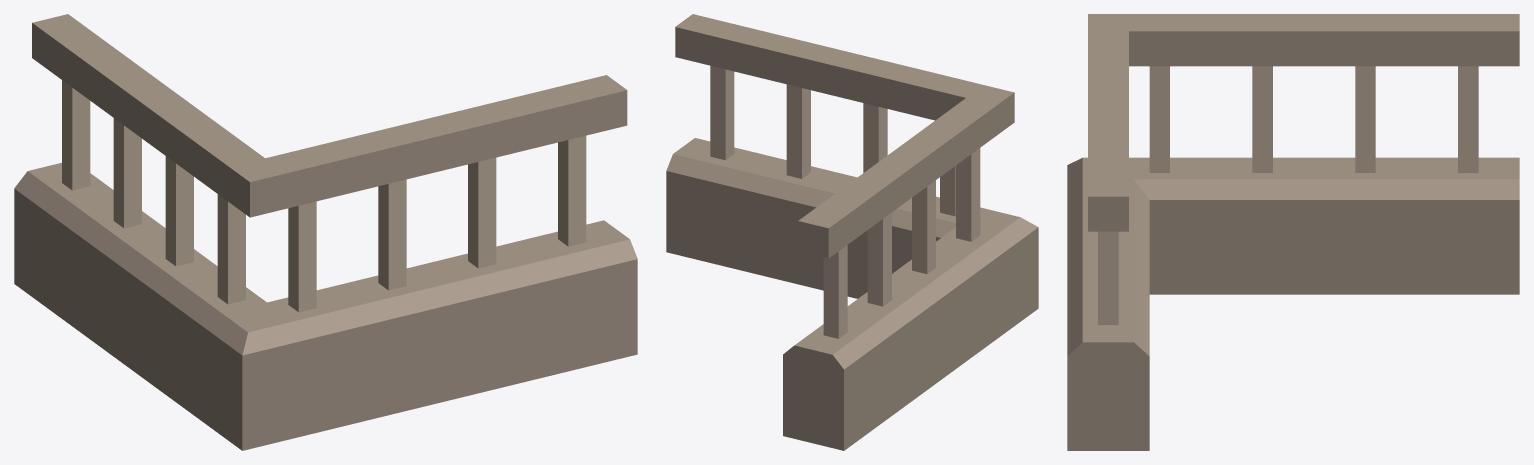
The model's file is Wood_Railing_Corner.glb.
The picture shows the model from 3 angles, left to right: view 1: azimuth 30°, elevation 25°; view 2: azimuth 150°, elevation 25°; view 3: azimuth 270°, elevation 25°; orthographic projection. The views are drawn at different scales.
Visible parts, largest first — view 1: Wood_Railing_Corner.1, Wood_Railing_Corner.2, Wood_Railing_Corner.8, Wood_Railing_Corner.6, Wood_Railing_Corner.3, Wood_Railing_Corner.7, Wood_Railing_Corner.5, Wood_Railing_Corner.4, Wood_Railing_Corner.9, Wood_Railing_Corner.0; view 2: Wood_Railing_Corner.1, Wood_Railing_Corner.2, Wood_Railing_Corner.6, Wood_Railing_Corner.8, Wood_Railing_Corner.0, Wood_Railing_Corner.9, Wood_Railing_Corner.5, Wood_Railing_Corner.4, Wood_Railing_Corner.7, Wood_Railing_Corner.3; view 3: Wood_Railing_Corner.1, Wood_Railing_Corner.2, Wood_Railing_Corner.0, Wood_Railing_Corner.4, Wood_Railing_Corner.5, Wood_Railing_Corner.9, Wood_Railing_Corner.8.
Boxes of the visible parts, x1,y1,x2,y2 form: Wood_Railing_Corner.1: (14,162,637,450); Wood_Railing_Corner.2: (32,14,627,217); Wood_Railing_Corner.8: (558,135,586,246); Wood_Railing_Corner.6: (468,157,496,268); Wood_Railing_Corner.3: (288,201,316,312); Wood_Railing_Corner.7: (378,179,406,290); Wood_Railing_Corner.5: (113,118,141,228); Wood_Railing_Corner.4: (165,156,193,266); Wood_Railing_Corner.9: (217,194,245,304); Wood_Railing_Corner.0: (62,80,90,190); Wood_Railing_Corner.1: (666,138,1038,450); Wood_Railing_Corner.2: (675,14,1014,258); Wood_Railing_Corner.6: (786,84,810,178); Wood_Railing_Corner.8: (710,65,734,160); Wood_Railing_Corner.0: (823,245,847,338); Wood_Railing_Corner.9: (956,148,980,241); Wood_Railing_Corner.5: (867,212,891,306); Wood_Railing_Corner.4: (912,180,935,273); Wood_Railing_Corner.7: (863,103,887,172); Wood_Railing_Corner.3: (940,166,955,216); Wood_Railing_Corner.1: (1067,157,1519,450); Wood_Railing_Corner.2: (1088,14,1519,231); Wood_Railing_Corner.0: (1458,66,1478,172); Wood_Railing_Corner.4: (1252,66,1272,172); Wood_Railing_Corner.5: (1355,66,1375,172); Wood_Railing_Corner.9: (1149,66,1169,172); Wood_Railing_Corner.8: (1098,231,1118,324).
Size of the model in its own units: 1.1 by 0.6826 by 1.1.
